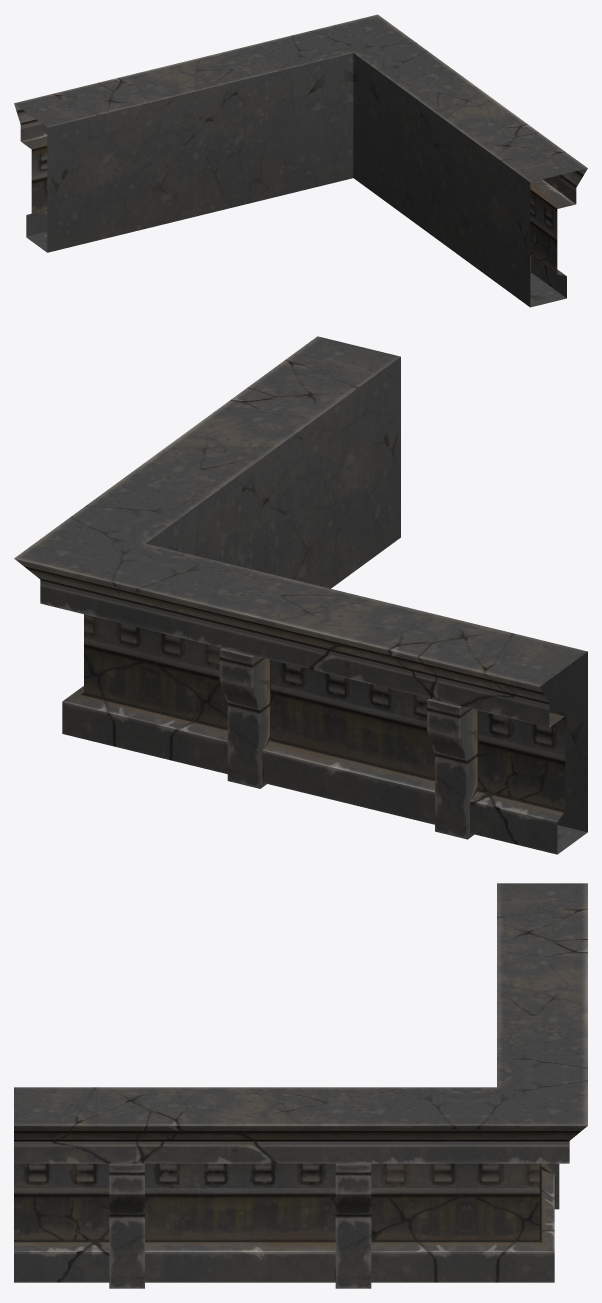
Rendered from ARC0110006.fbx.
The picture shows the model from 3 angles, top to bottom: view 1: azimuth 30°, elevation 25°; view 2: azimuth 150°, elevation 25°; view 3: azimuth 270°, elevation 25°; orthographic projection. The views are drawn at different scales.
Parts seen in each view (by area): view 1: smARC0110006; view 2: smARC0110006; view 3: smARC0110006.
Part boxes in pixels (left/top/right/bottom): smARC0110006: left=14, top=14, right=587, bottom=307; smARC0110006: left=14, top=336, right=587, bottom=854; smARC0110006: left=14, top=883, right=587, bottom=1288.
Size of the model in its own units: 410 by 138 by 410.
1 material, 1 textured.
